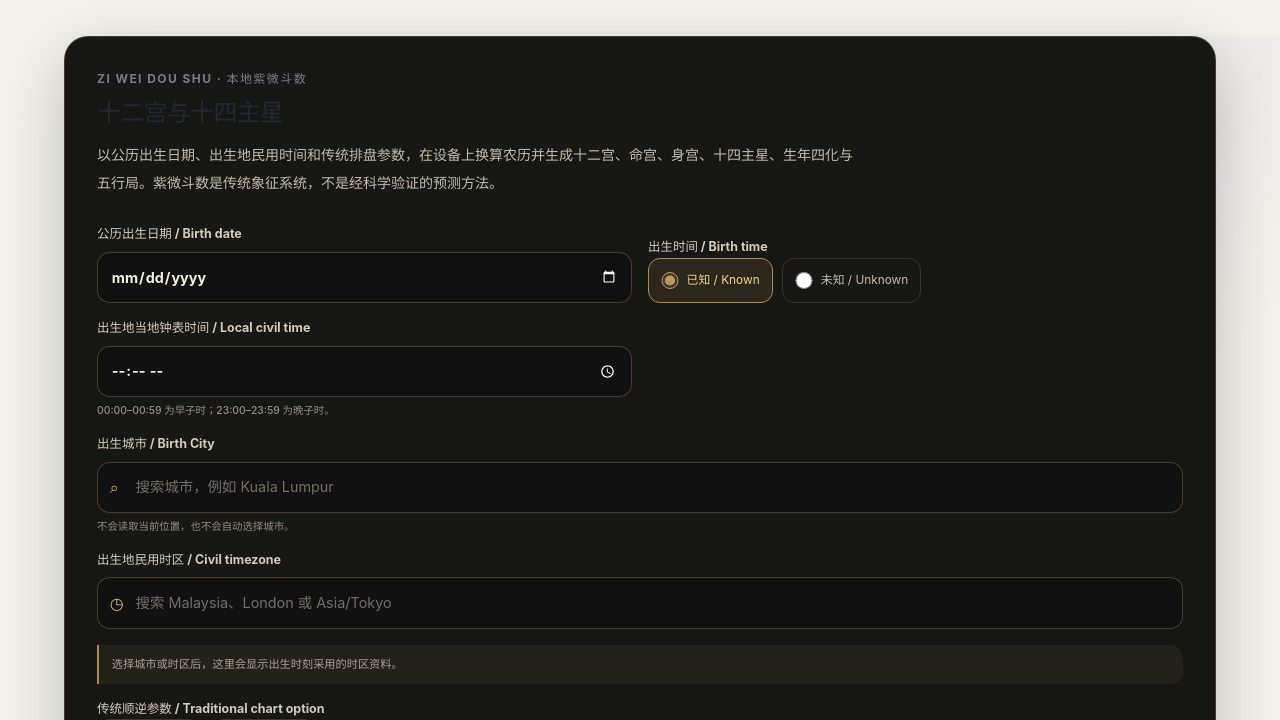
Test case: local Zi Wei experience › supports an unlisted-city fallback with a manually chosen IANA timezone
This screenshot has width=1280, height=720.
Type "Atlantis" into the dropdown labelled "出生城市 / Birth City".
click(640, 487); type("Atlantis")  # box [97,462,1183,513]
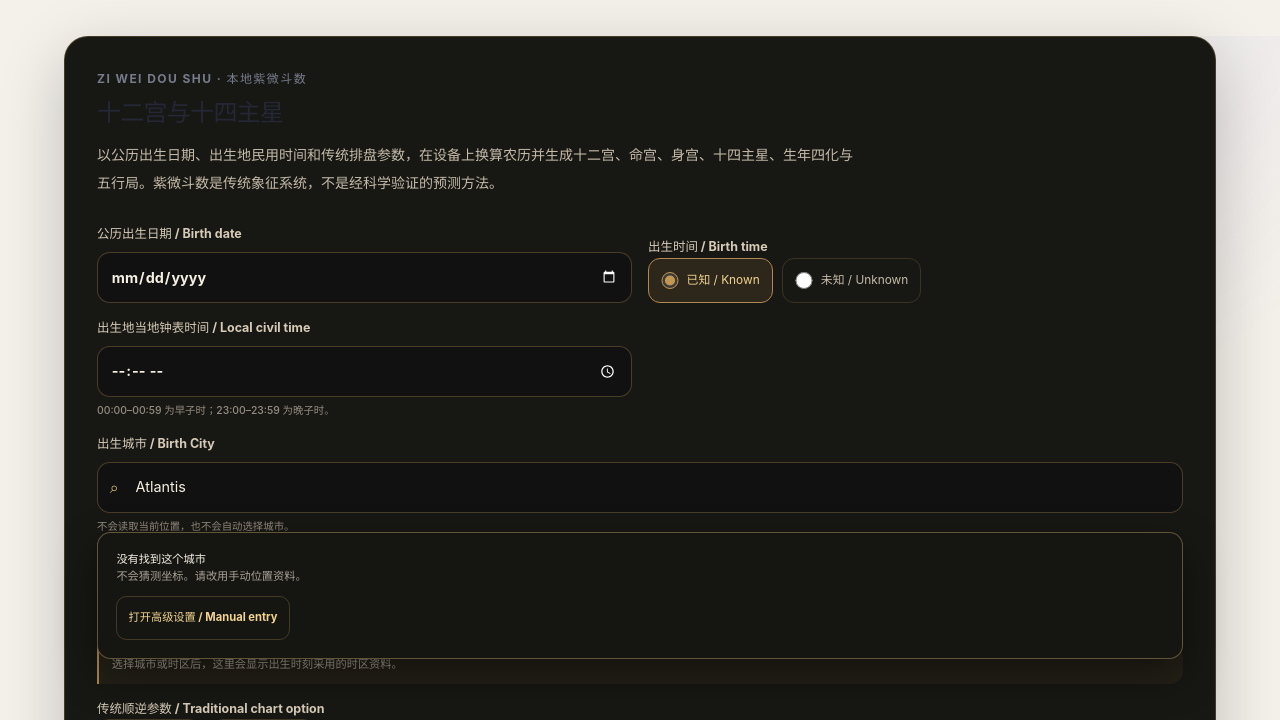
Click the button "打开高级设置 / Manual entry".
click(203, 618)  # box [116,596,290,640]
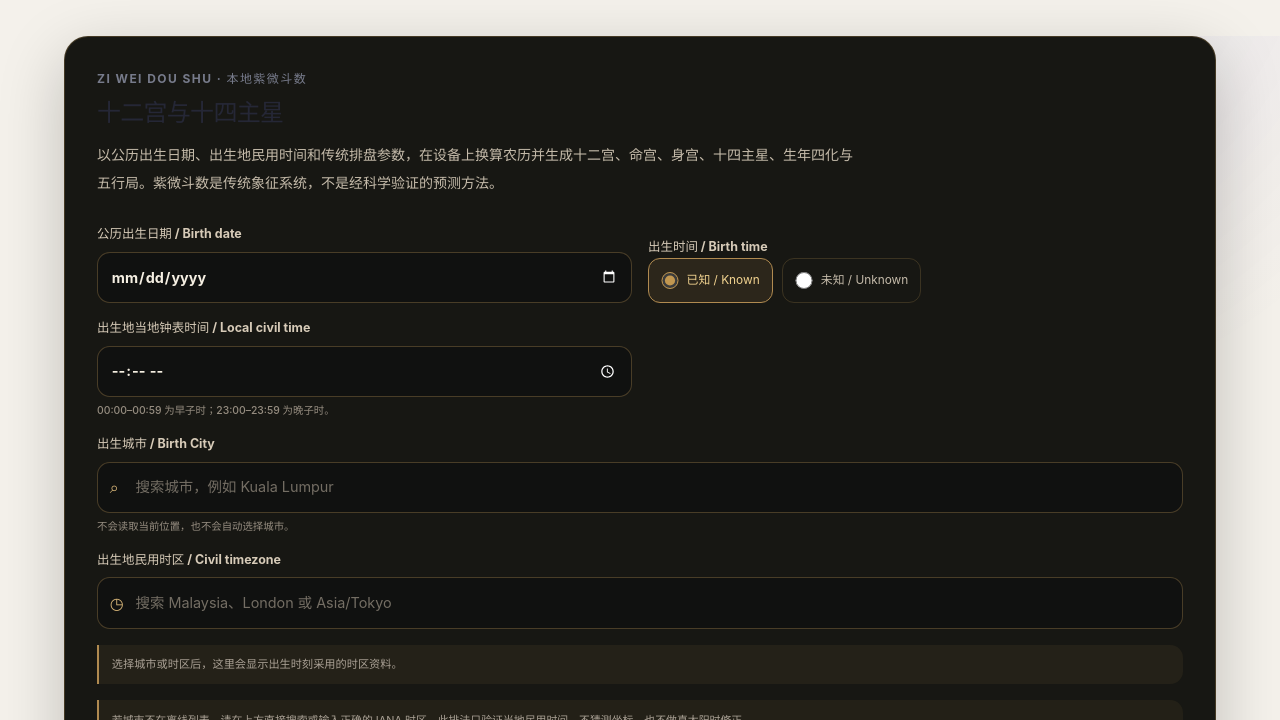
Type "UTC" into the dropdown labelled "出生地民用时区 / Civil timezone".
click(640, 603); type("UTC")  # box [97,577,1183,629]
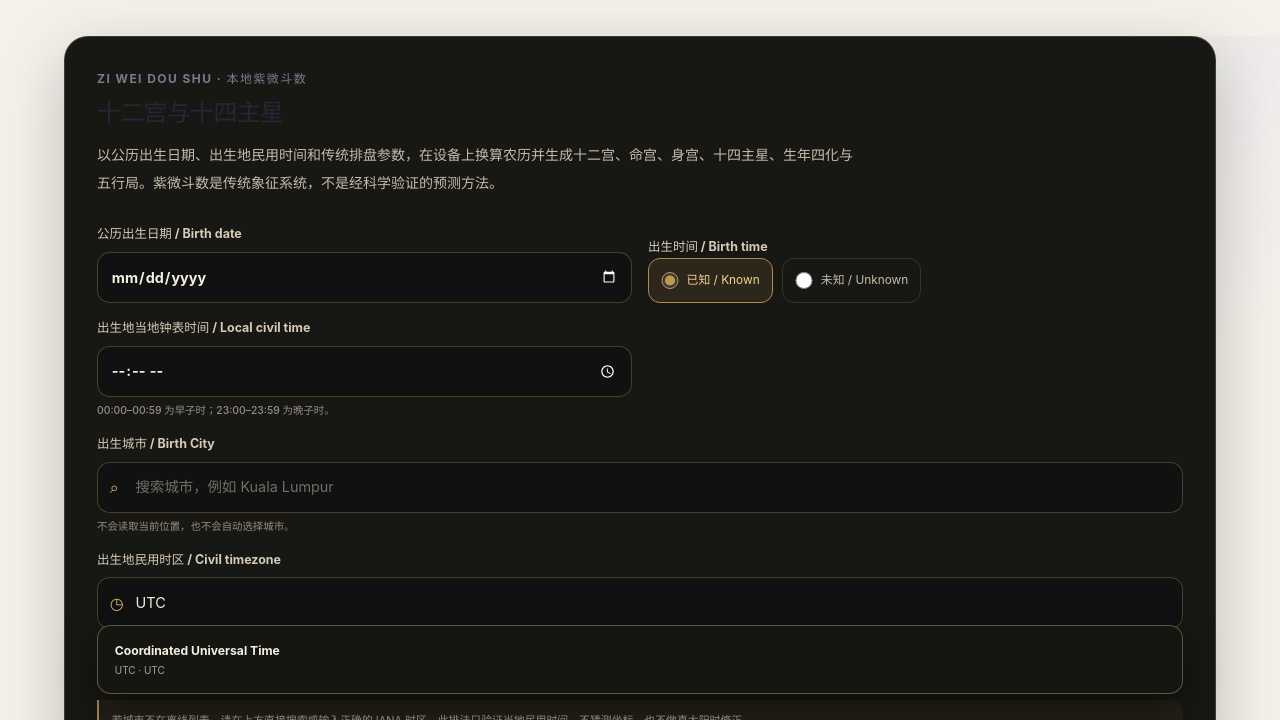
Click the option "Coordinated Universal Time UTC · UTC".
click(197, 650)  # box [104,632,1176,688]
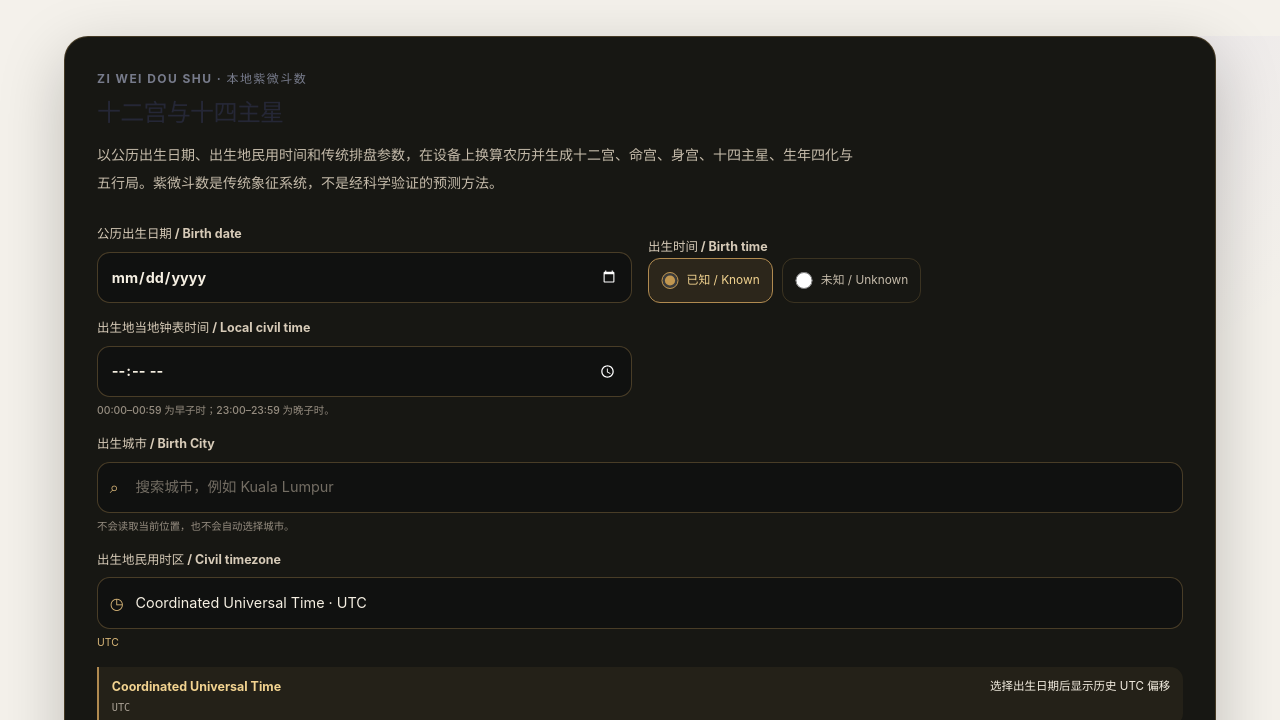
Now the text "UTC" below "出生地民用时区 / Civil timezone" is shown, box [97,636,119,649]
